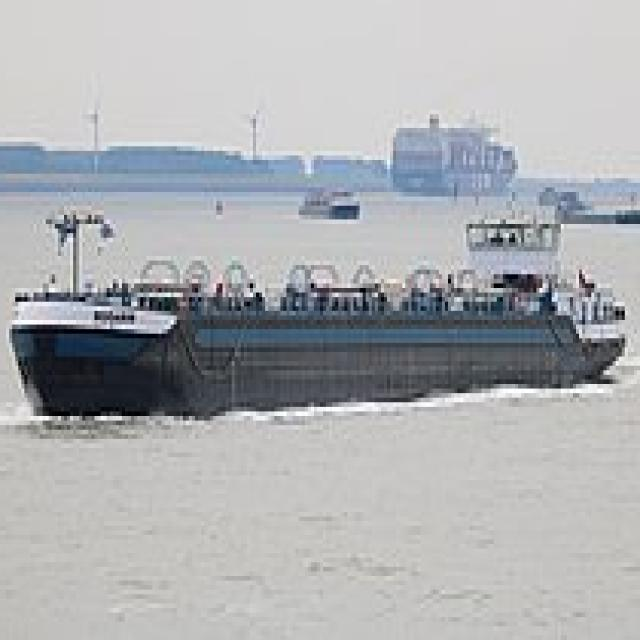Tanker: (6, 206, 634, 416)
